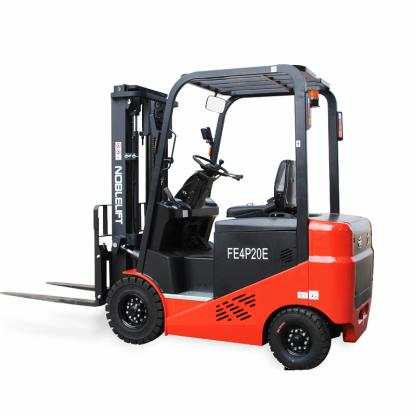forklift: (0, 61, 376, 371)
